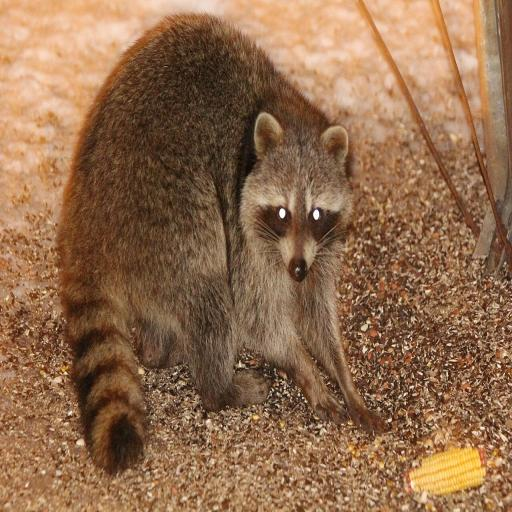raccoon: (58, 16, 384, 471)
